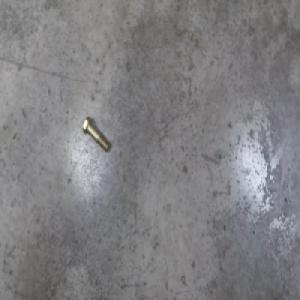Bolt: (80, 116, 109, 154)
